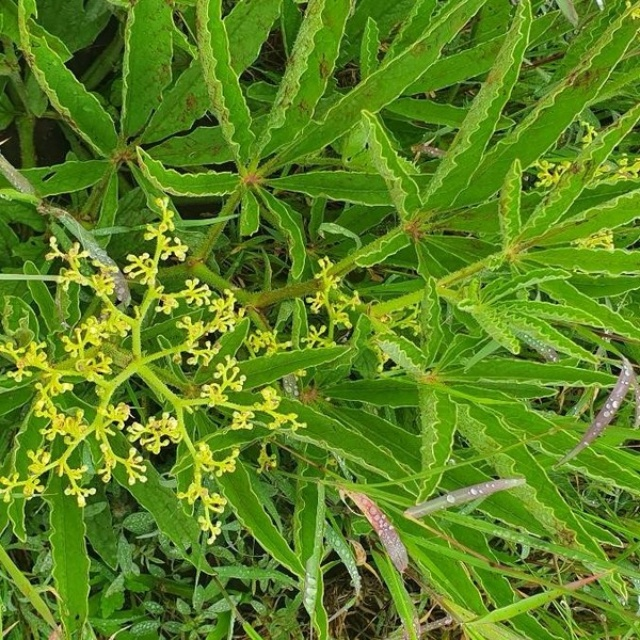obstacle: (51, 59, 587, 601)
